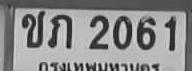0: (112, 15, 131, 48)
1: (164, 15, 175, 50)
2: (88, 13, 108, 48)
6: (136, 15, 155, 49)
A10: (21, 10, 44, 46)
A32: (48, 14, 72, 48)
BKK: (37, 59, 162, 71)
